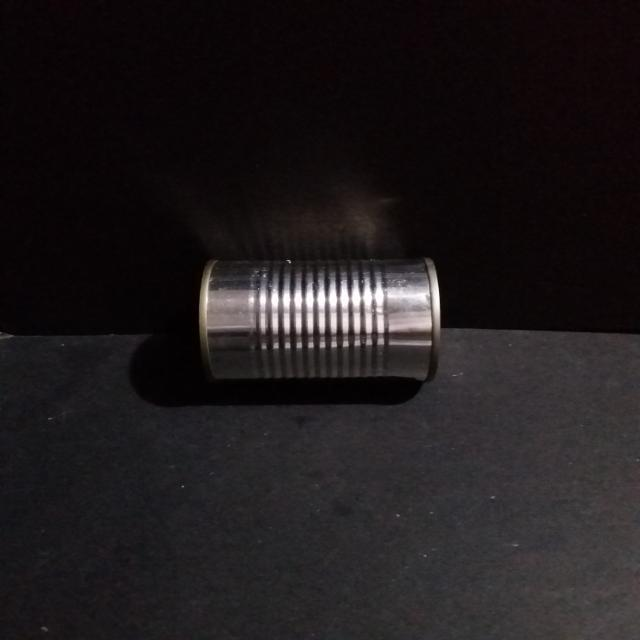Can: (193, 253, 444, 390)
